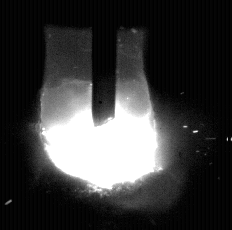arame: (93, 0, 116, 127)
poca: (40, 0, 160, 230)
